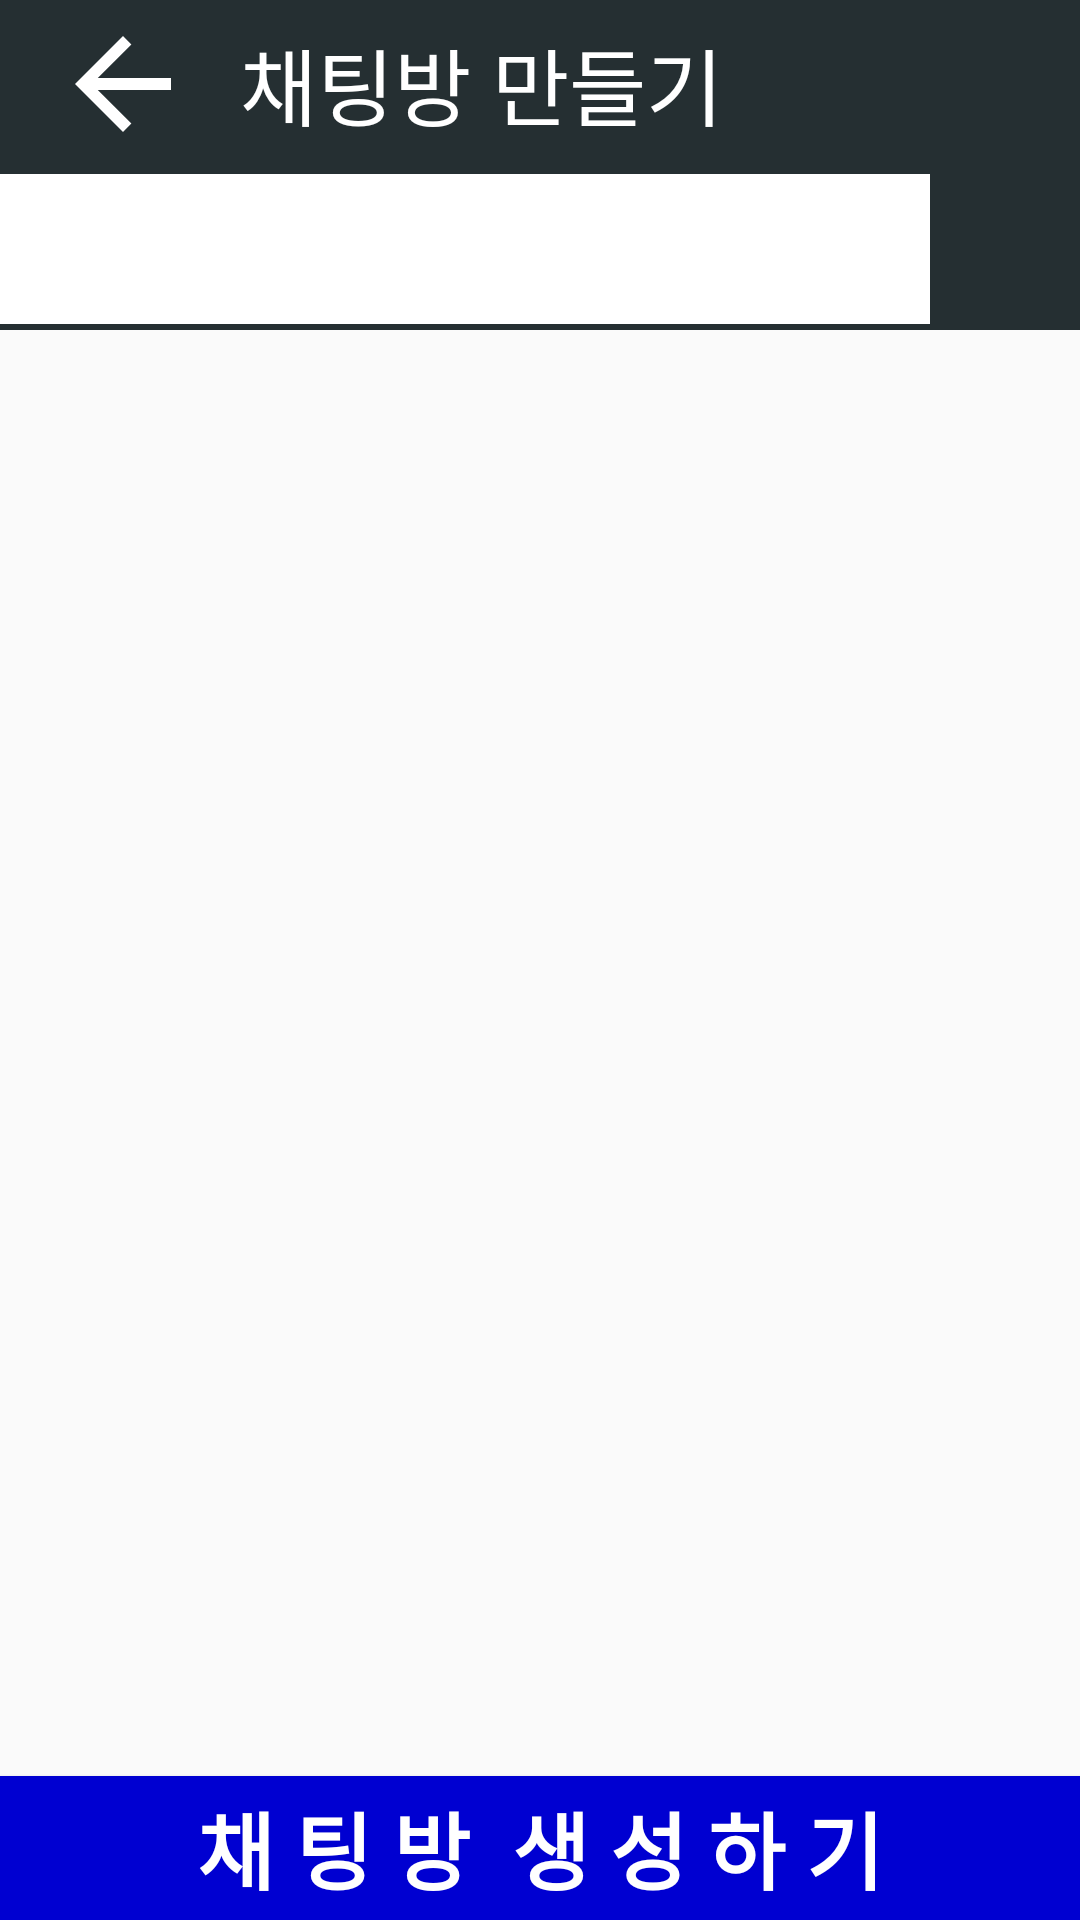

Icon bounding boxes for this 1080×1920 phone screenshot, format (x1, y1, x2, y2):
back toolbar: (75, 36, 171, 132)
